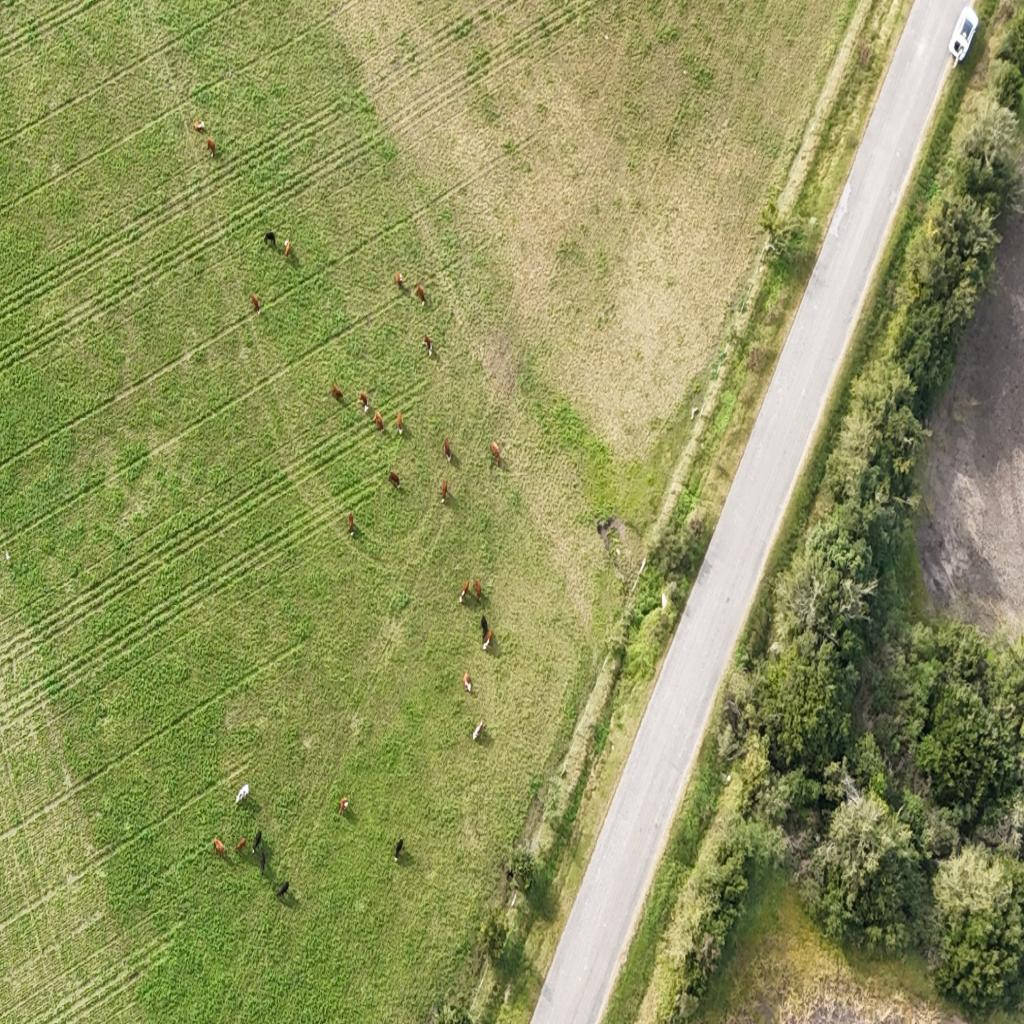cow: (392, 835, 406, 864), (471, 717, 484, 748), (236, 783, 250, 810), (339, 794, 352, 818), (459, 582, 471, 608), (215, 836, 229, 857), (490, 442, 502, 466), (482, 628, 494, 652), (358, 391, 370, 413), (373, 410, 384, 433), (425, 334, 435, 358), (276, 880, 289, 898), (331, 383, 343, 402), (257, 852, 266, 877), (193, 118, 207, 134), (480, 614, 488, 642), (250, 294, 261, 314), (415, 282, 426, 302), (443, 440, 451, 467), (473, 578, 482, 602), (252, 830, 262, 851), (396, 411, 404, 436), (389, 470, 400, 488), (440, 478, 448, 502), (463, 672, 472, 693), (207, 138, 216, 158), (235, 837, 246, 853), (264, 230, 275, 246), (283, 236, 291, 257), (348, 512, 354, 535), (395, 271, 403, 288)
